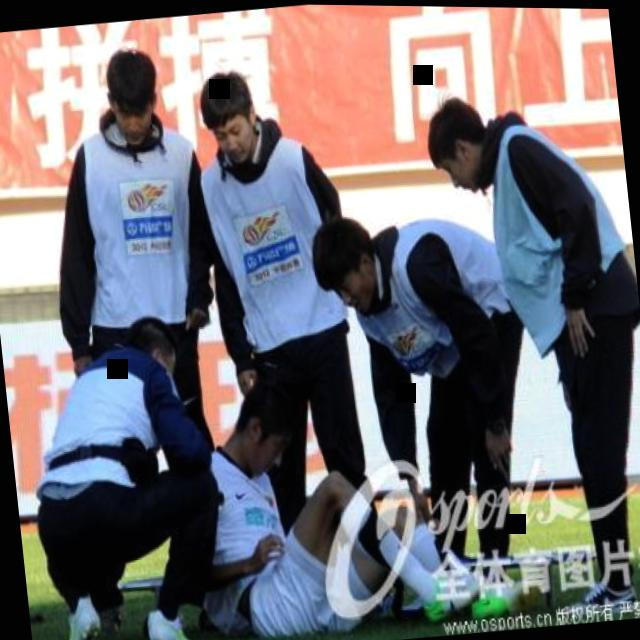Fall-Detected: (162, 341, 454, 640)
